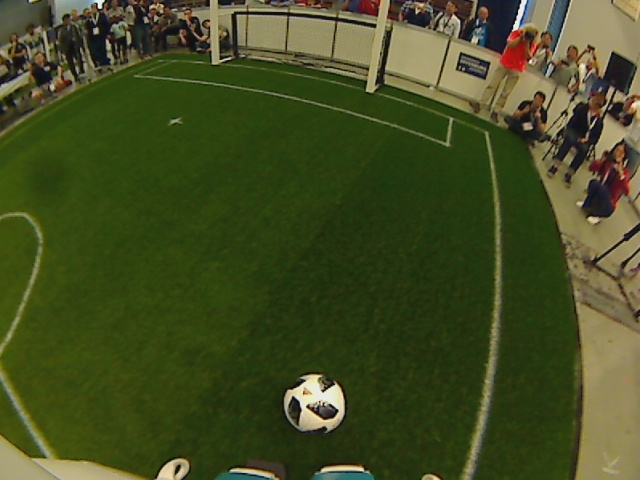ball: (280, 371, 346, 437)
